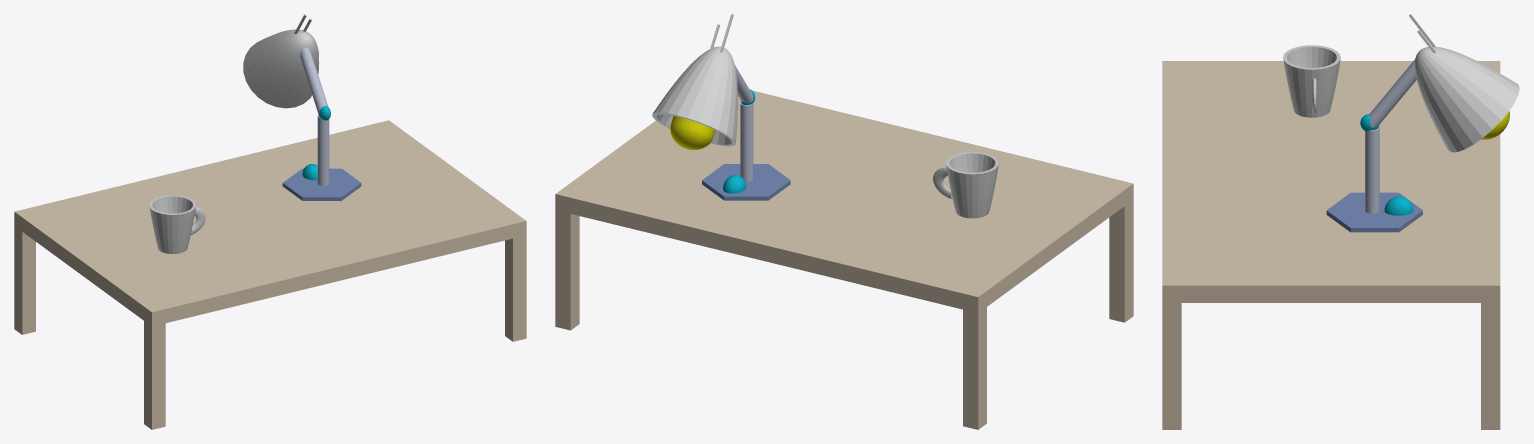
The picture shows the model from 3 angles, left to right: view 1: azimuth 30°, elevation 25°; view 2: azimuth 150°, elevation 25°; view 3: azimuth 270°, elevation 25°; orthographic projection. The views are drawn at different scales.
Visible parts, largest first — view 1: Mesh_Mesh_head_geo.001_lambert2SG.001; view 2: Mesh_Mesh_head_geo.001_lambert2SG.001; view 3: Mesh_Mesh_head_geo.001_lambert2SG.001.
Part boxes in pixels (x1,y1,x2,y2): Mesh_Mesh_head_geo.001_lambert2SG.001: (14,14,526,429); Mesh_Mesh_head_geo.001_lambert2SG.001: (555,14,1133,429); Mesh_Mesh_head_geo.001_lambert2SG.001: (1162,14,1519,429).
Size of the model in its own units: 110 by 78.46 by 74.
